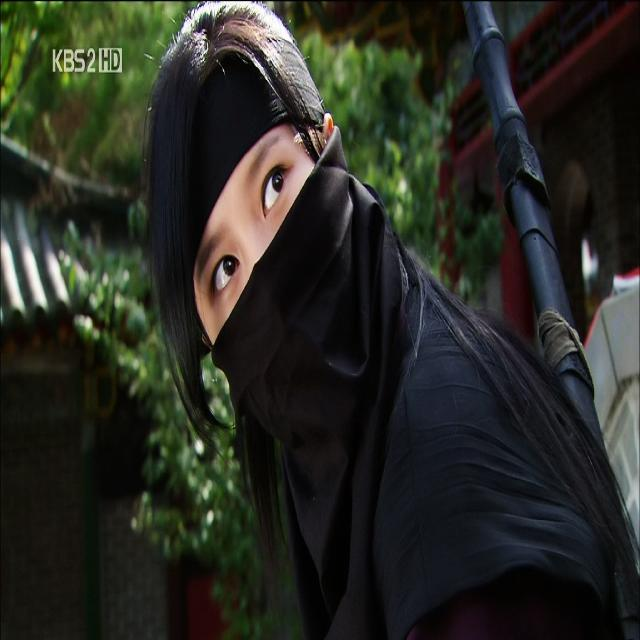mask: (180, 86, 348, 410)
